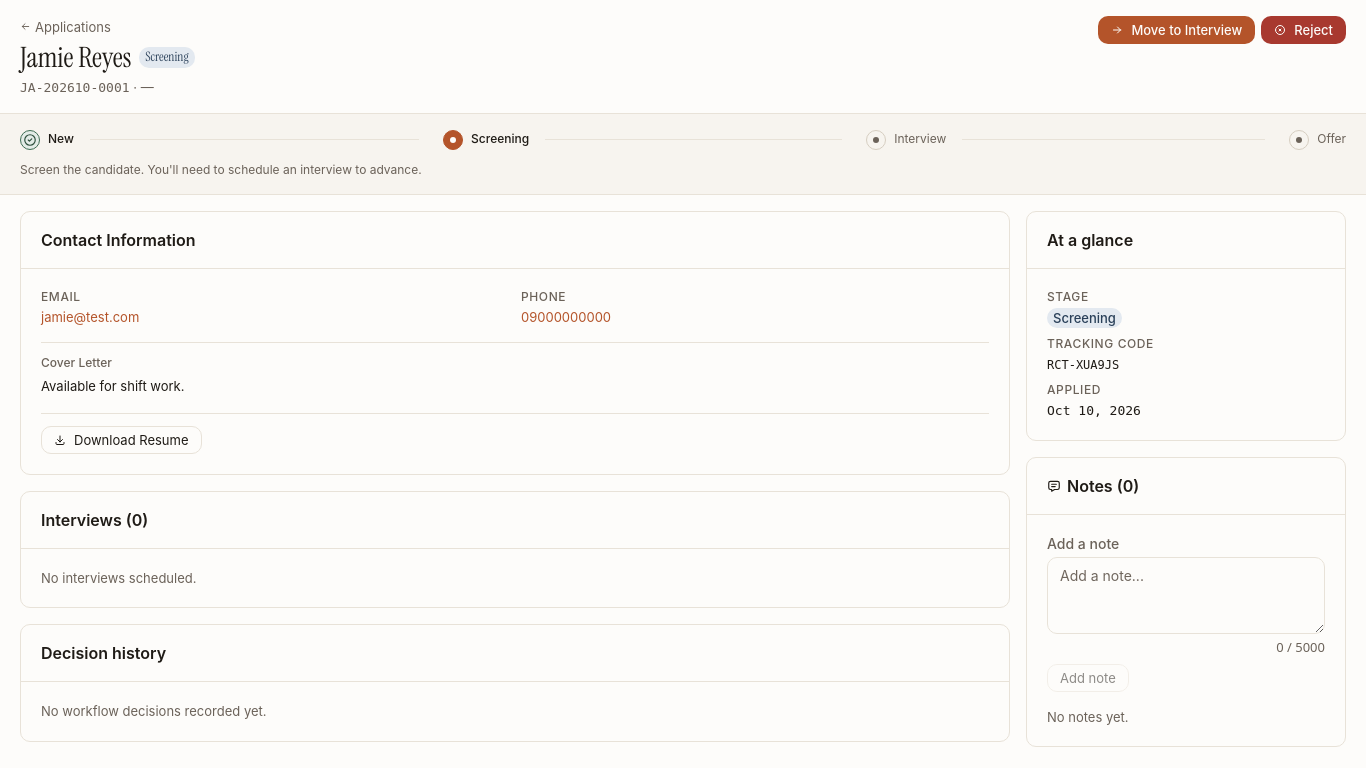
Scenario: keeps entered details and maps nested server errors after failed advancement
Click the button "Move to Interview" at (1177, 30), box [1098,16,1255,44]
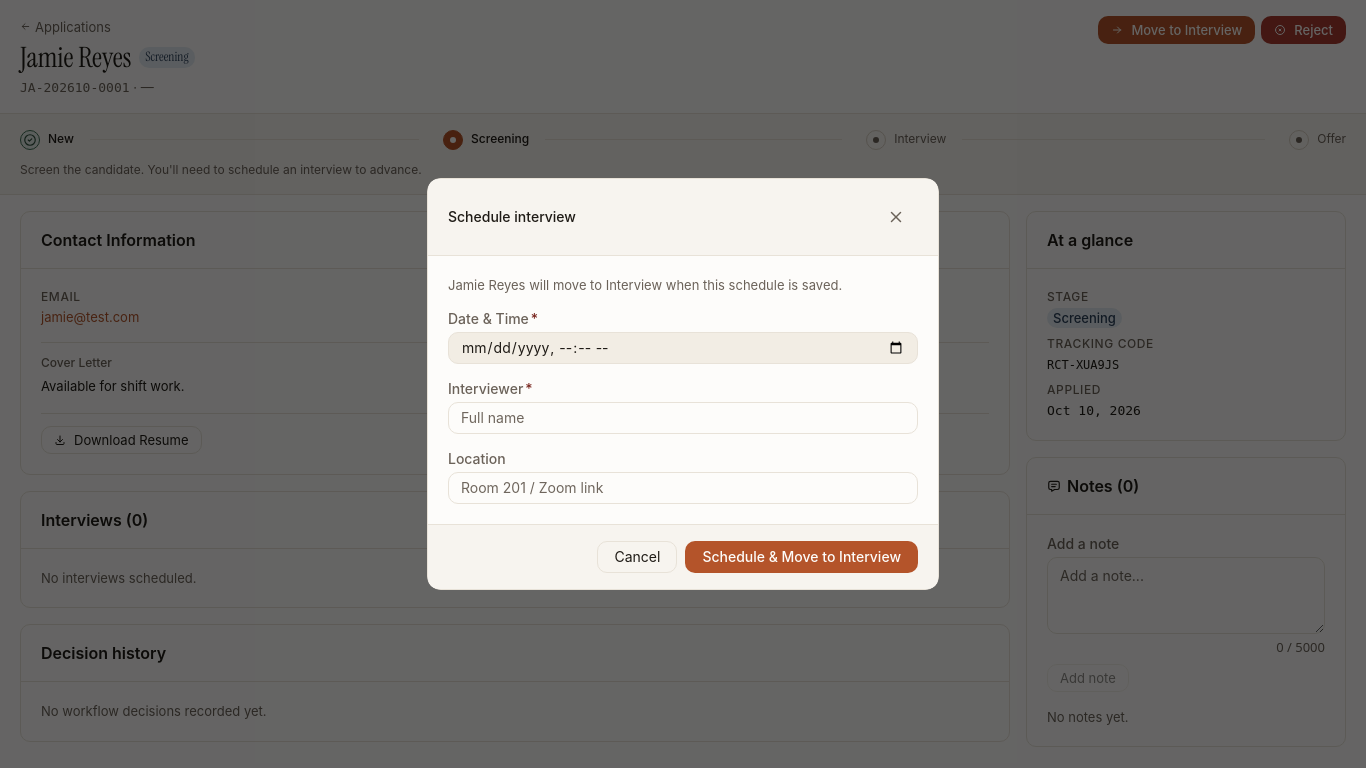
Type "2099-10-13T10:30" into the field labelled "Date & Time*" at (683, 348), box [449,333,917,363]
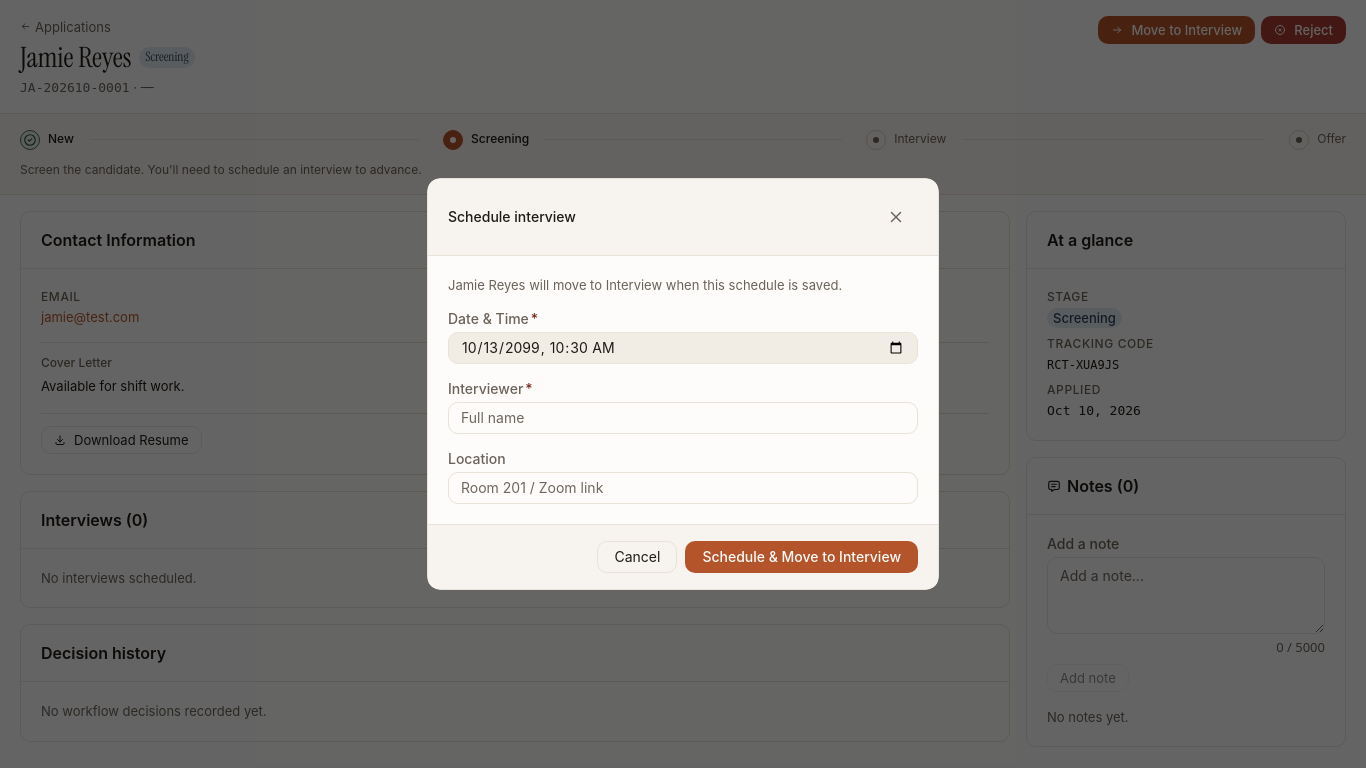
Type "Maria Santos" into the field labelled "Interviewer*" at (683, 418), box [449,403,917,433]
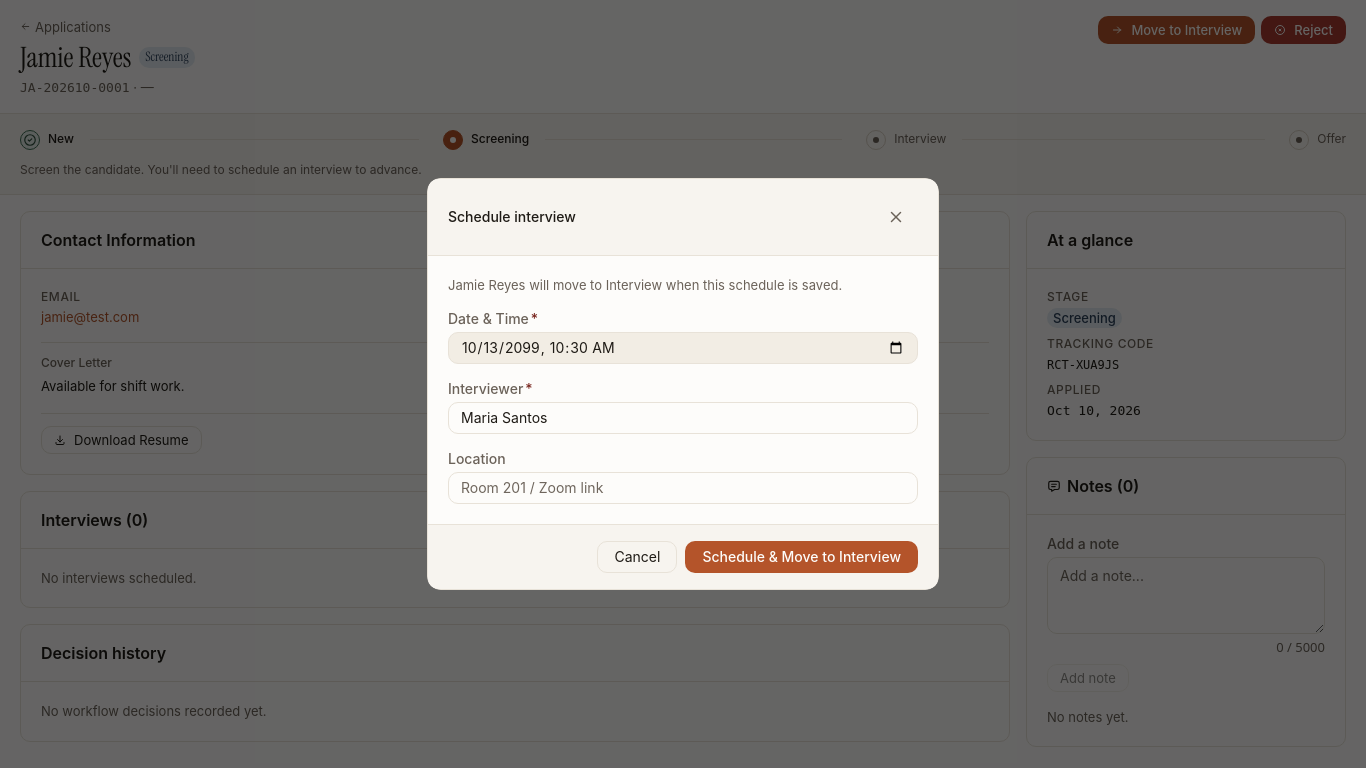
Type "HR meeting room" into the field labelled "Location" at (683, 488), box [449,473,917,503]
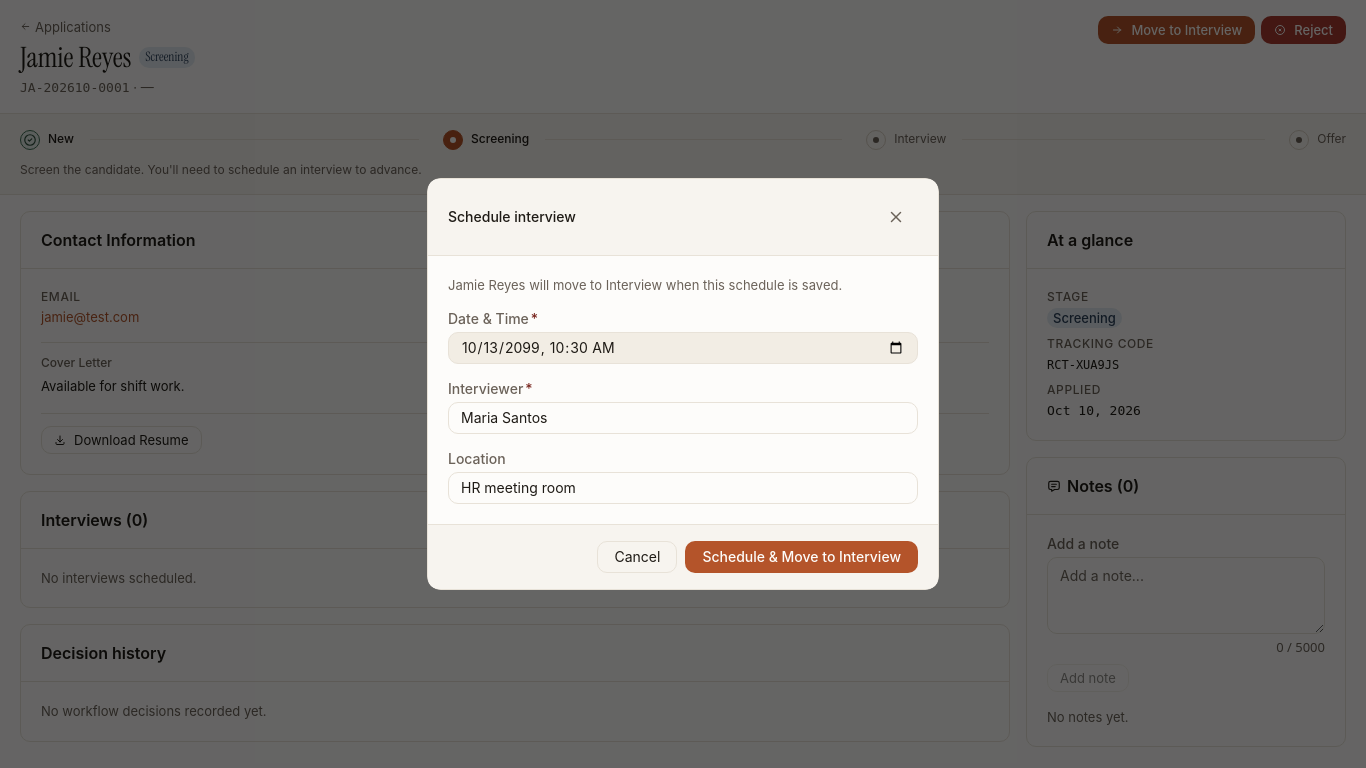
Click the button "Schedule & Move to Interview" at (802, 557), box [685,541,918,573]
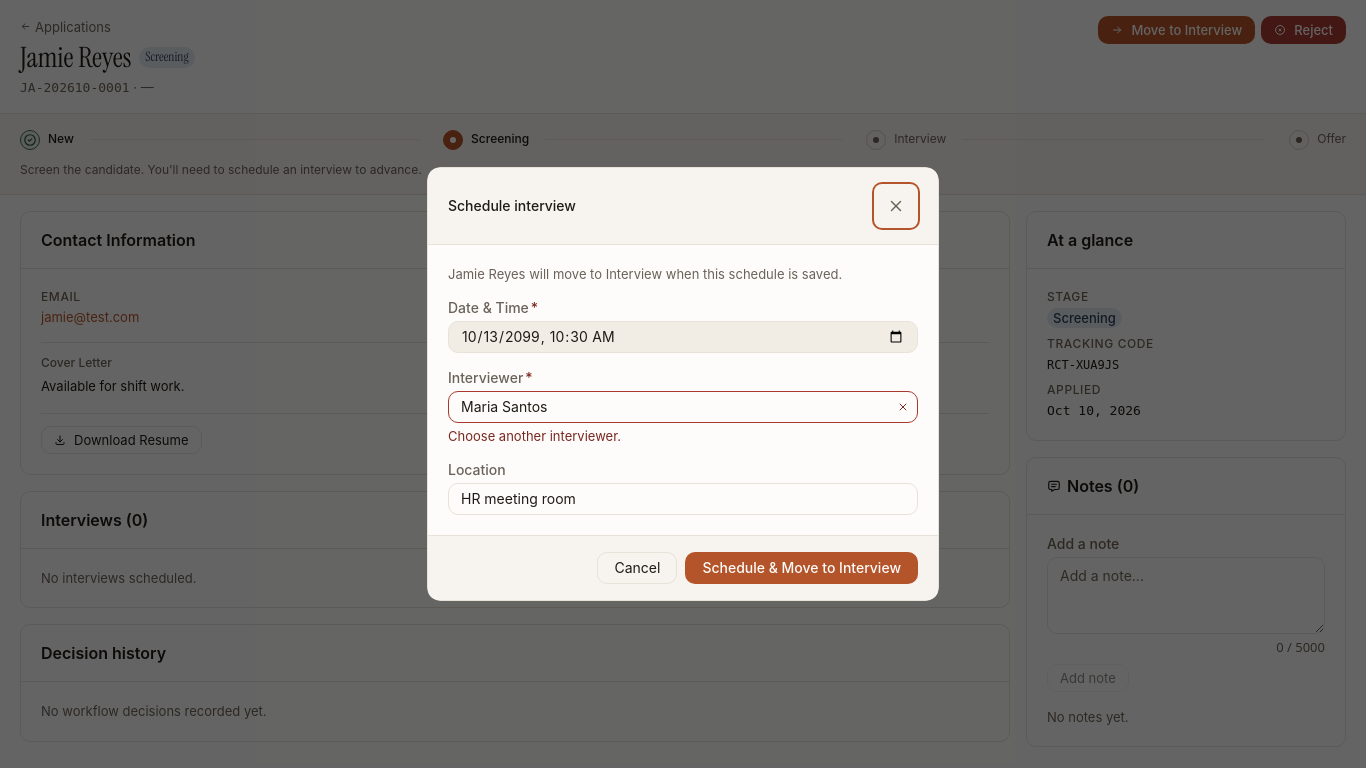
Now the text "Choose another interviewer." is shown, box [448,428,621,444]
